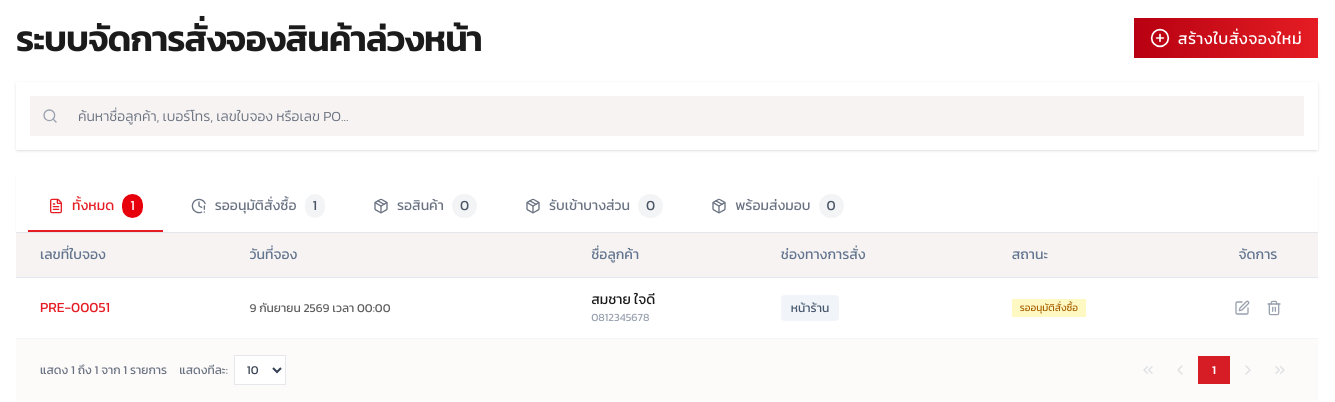
it: Preorder list and navigation › passes the chosen status filter to the API and renders matching orders
Expected: the text "PRE-00051" is shown, [40,297,110,318]
Click the button "รอสินค้า 0": click(425, 207) [353,182,497,232]
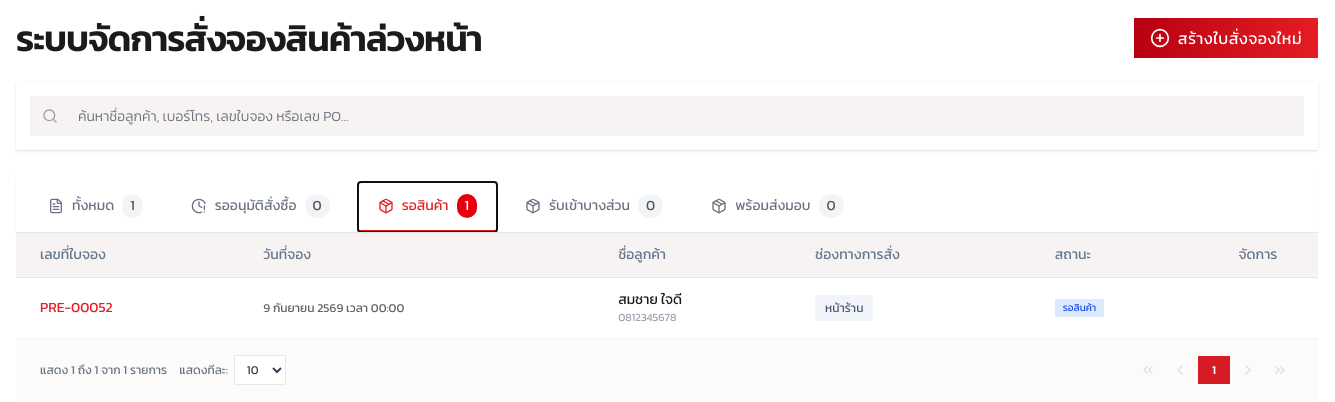
Expected: the text "PRE-00052" is shown, [40,297,113,318]
Expected: the text "PRE-00051" is gone
